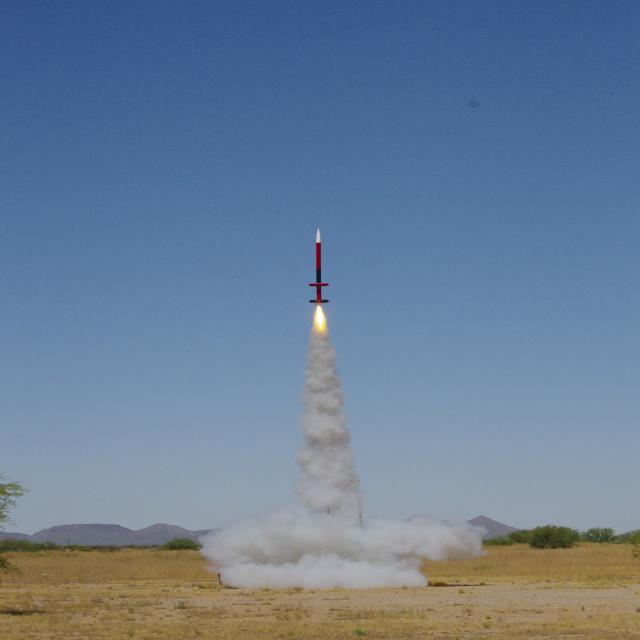Rocket: (308, 227, 329, 303)
